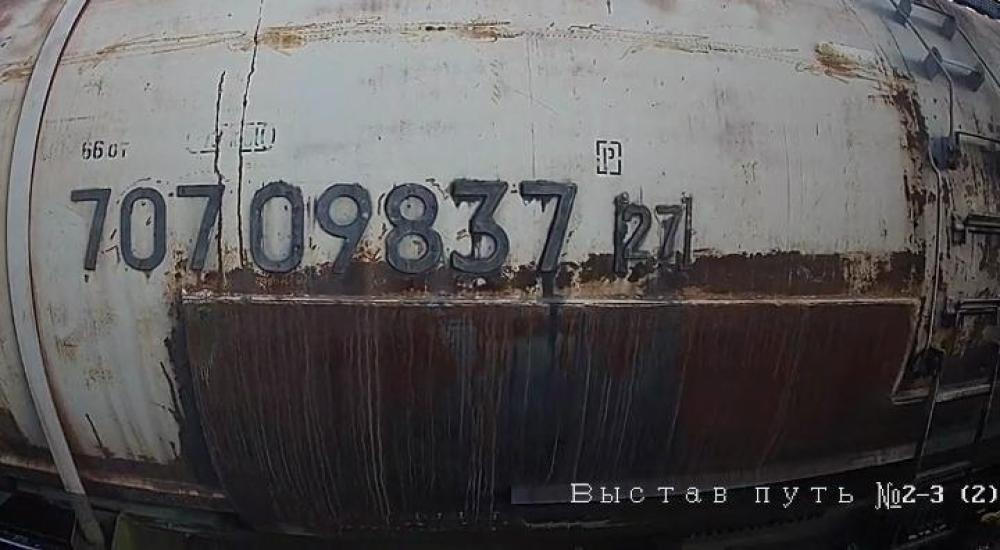Wagon-number: (60, 178, 582, 281)
